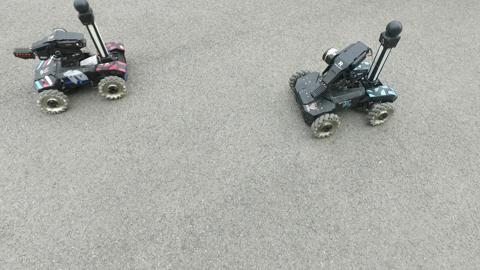chariot: (5, 1, 136, 116), (286, 22, 405, 141)
